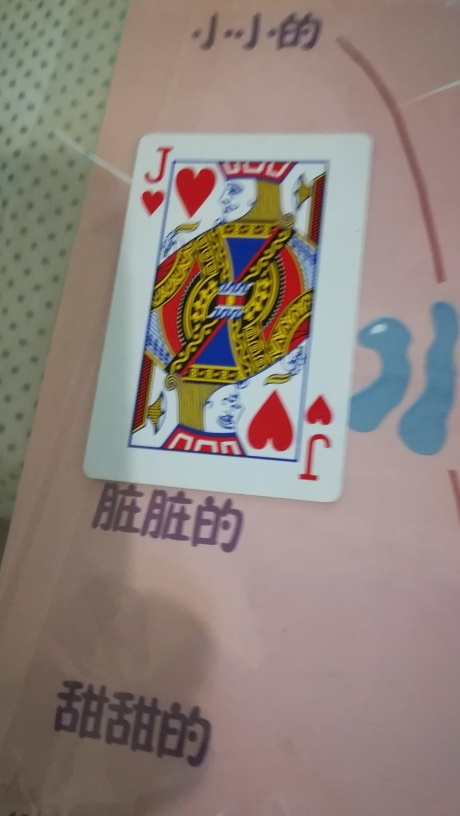hx j: (85, 132, 372, 518)
